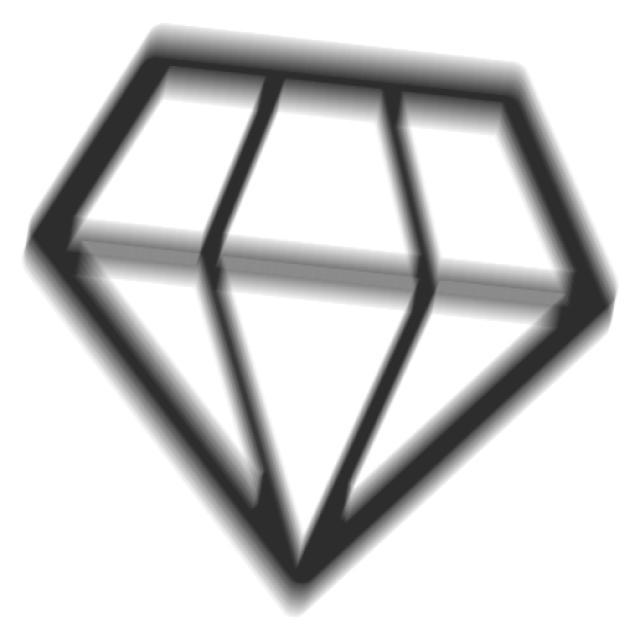diamond: (10, 21, 629, 632)
